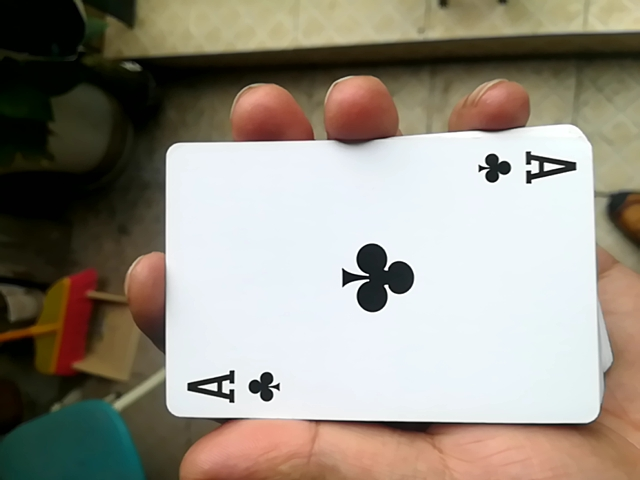mh a: (141, 132, 604, 437)
